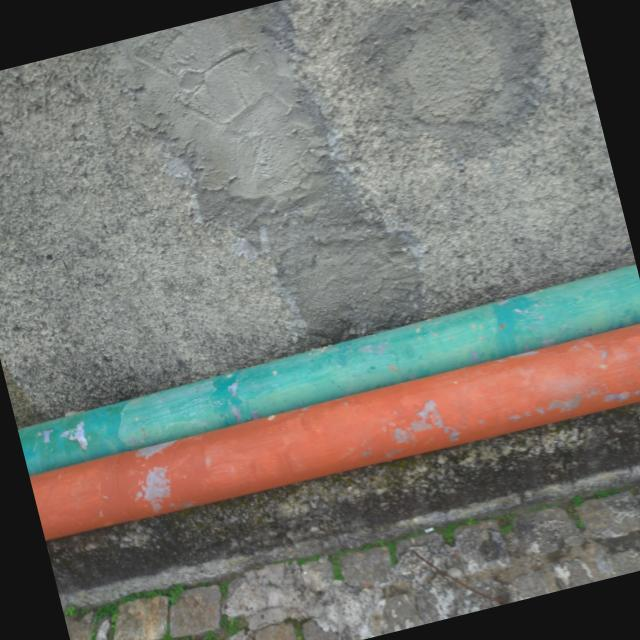gas: (29, 324, 640, 540), (17, 266, 640, 468)
